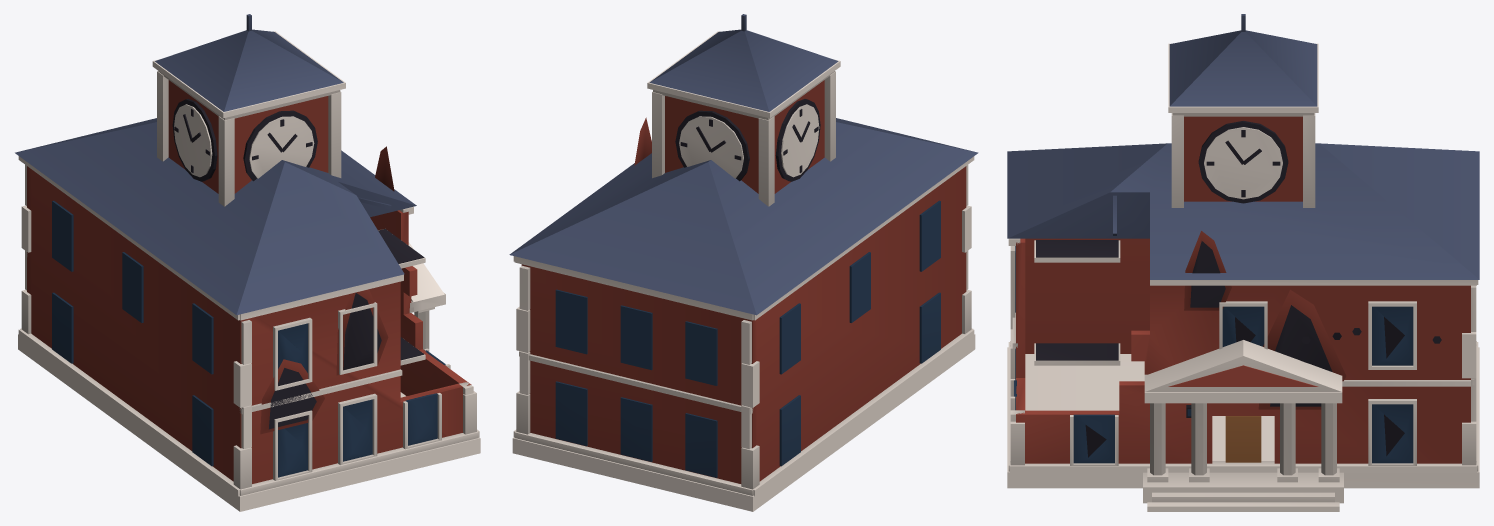
Rendered from bld.town-hall.w5.lod2.glb.
The picture shows the model from 3 angles, left to right: view 1: azimuth 30°, elevation 25°; view 2: azimuth 150°, elevation 25°; view 3: azimuth 270°, elevation 25°; orthographic projection. The views are drawn at different scales.
Parts seen in each view (by area): view 1: body, roof; view 2: body, roof; view 3: body, roof, door_front.
Part boxes in pixels (<box>): body: <box>18,31,480,511</box>; roof: <box>15,14,416,315</box>; body: <box>512,31,975,511</box>; roof: <box>509,14,978,315</box>; body: <box>1007,43,1479,511</box>; roof: <box>1007,14,1479,279</box>; door_front: <box>1225,416,1261,462</box>.
Bounding box in the file's own units: 12.05 × 15.35 × 16.
